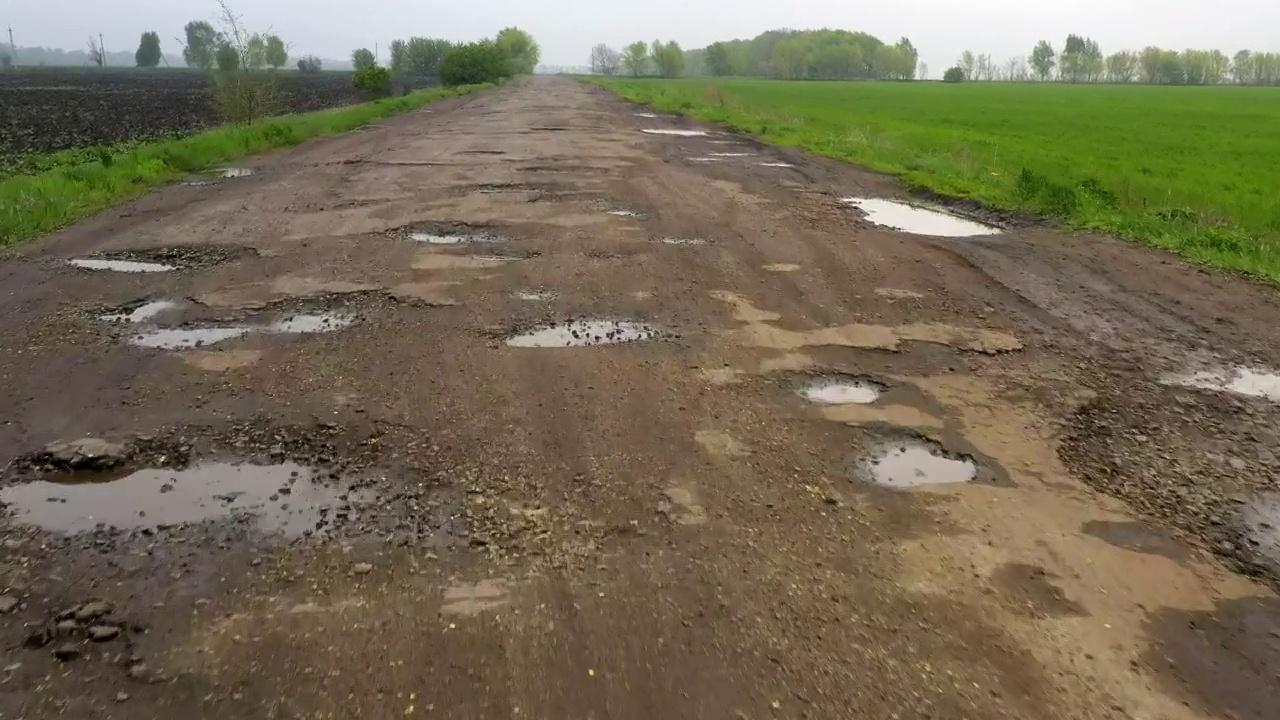bache: (0, 421, 410, 544), (1058, 383, 1279, 591), (114, 296, 359, 351), (842, 198, 1000, 236), (68, 244, 258, 271), (868, 441, 976, 488), (506, 319, 666, 347), (388, 223, 506, 245), (801, 378, 879, 404)
